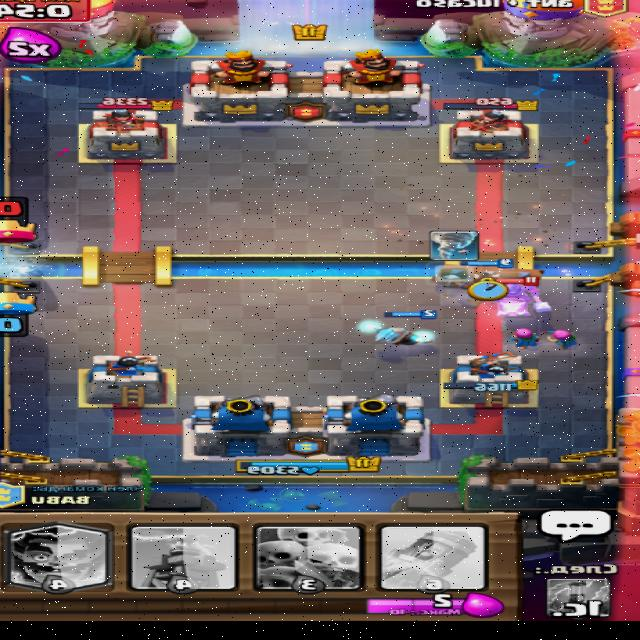Enemy-HogRider: (489, 276, 556, 318)
Player-Archer: (542, 328, 579, 350), (507, 327, 543, 349)
Player-HogRider: (454, 258, 516, 308)
Player-IceWizard: (356, 309, 439, 346)
